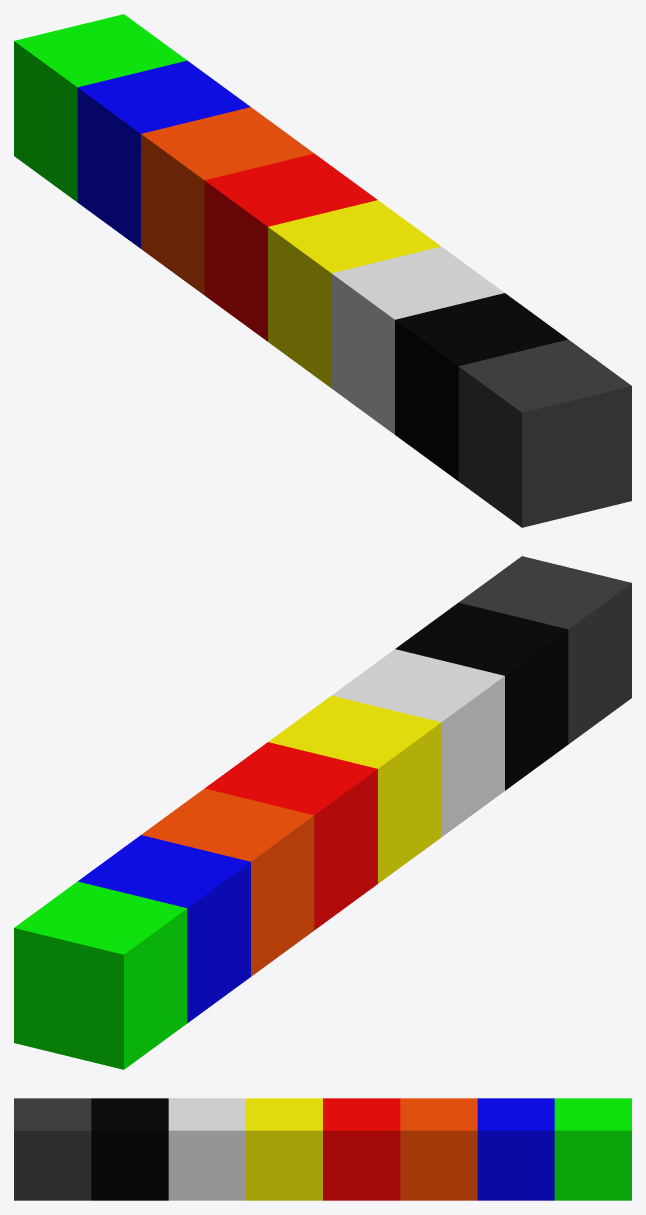
File: Materials.glb
3 renders of one model, top to bottom at view 1: azimuth 30°, elevation 25°; view 2: azimuth 150°, elevation 25°; view 3: azimuth 270°, elevation 25°, orthographic. The views are drawn at different scales.
Parts seen in each view (by area): view 1: Cube, Cube.006, Cube.001, Cube.002, Cube.003, Cube.004, Cube.007, Cube.005; view 2: Cube.007, Cube.001, Cube.006, Cube, Cube.003, Cube.004, Cube.005, Cube.002; view 3: Cube, Cube.001, Cube.002, Cube.003, Cube.004, Cube.005, Cube.006, Cube.007.
Boxes of the visible parts, box(x1,y1,x2,y2) form: Cube: box(458, 339, 631, 527); Cube.006: box(77, 60, 250, 248); Cube.001: box(395, 293, 567, 481); Cube.002: box(331, 246, 504, 434); Cube.003: box(268, 200, 440, 388); Cube.004: box(204, 153, 377, 341); Cube.007: box(14, 14, 186, 202); Cube.005: box(141, 107, 313, 295); Cube.007: box(14, 881, 187, 1069); Cube.001: box(395, 602, 568, 790); Cube.006: box(78, 835, 250, 1023); Cube: box(459, 556, 631, 744); Cube.003: box(268, 695, 441, 883); Cube.004: box(205, 742, 377, 930); Cube.005: box(141, 788, 314, 976); Cube.002: box(332, 649, 504, 837); Cube: box(14, 1098, 91, 1200); Cube.001: box(91, 1098, 168, 1200); Cube.002: box(168, 1098, 245, 1200); Cube.003: box(245, 1098, 322, 1200); Cube.004: box(323, 1098, 400, 1200); Cube.005: box(400, 1098, 477, 1200); Cube.006: box(477, 1098, 554, 1200); Cube.007: box(554, 1098, 631, 1200).
Bounding box in the file's own units: 2 × 2 × 16.
